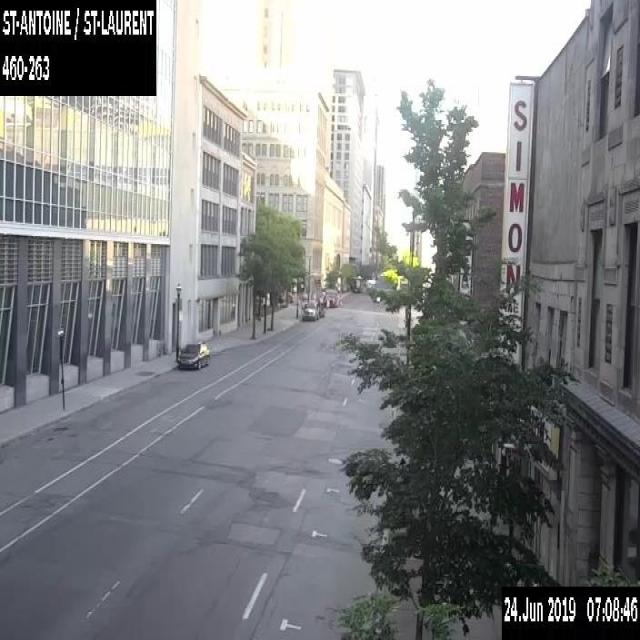vehicle: (177, 340, 211, 372), (302, 301, 319, 319), (310, 296, 325, 316), (324, 288, 338, 306), (364, 278, 376, 293)
